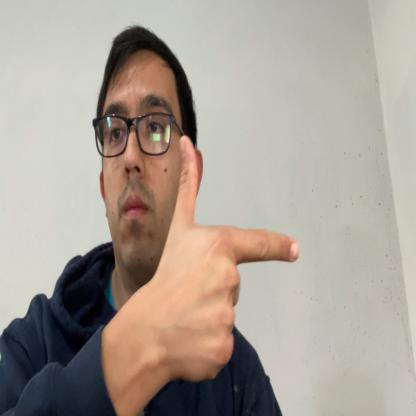G: (162, 134, 300, 380)
